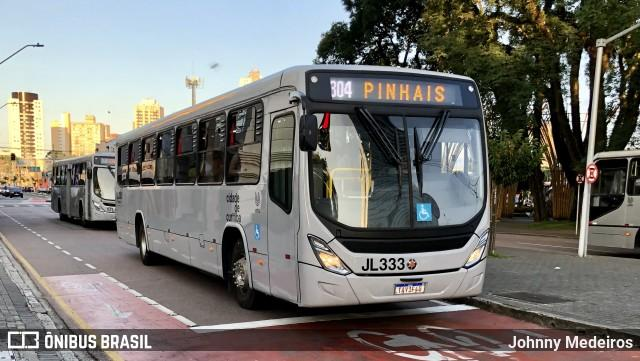PINHAIS: (357, 76, 450, 105)
